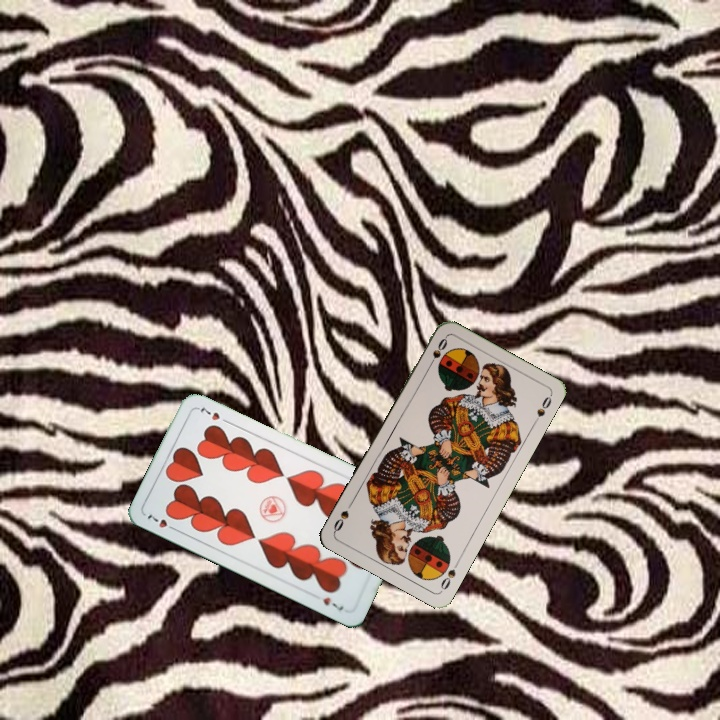H7: (143, 508, 180, 534)
SO: (424, 333, 450, 371), (436, 556, 462, 593)
